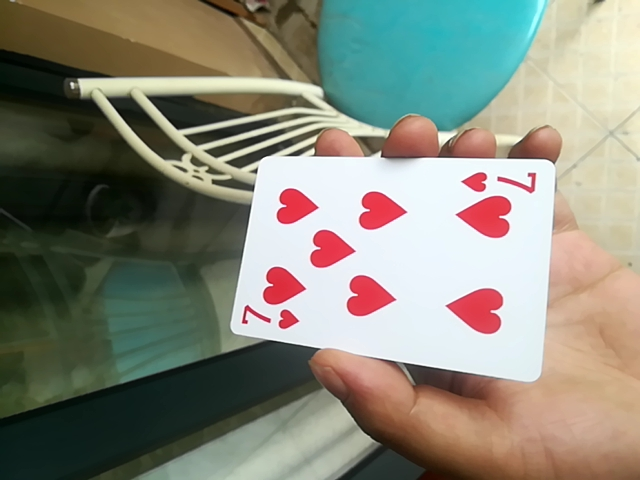hx 7: (226, 156, 554, 383)
